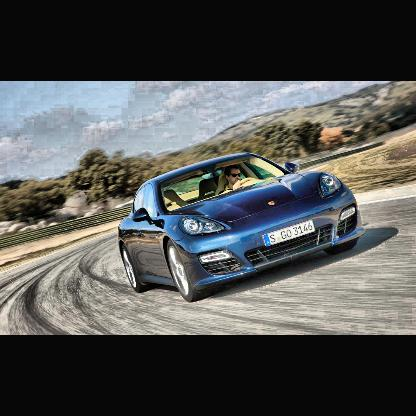Porsche Panamera Sedan 2012: (118, 151, 368, 305)
